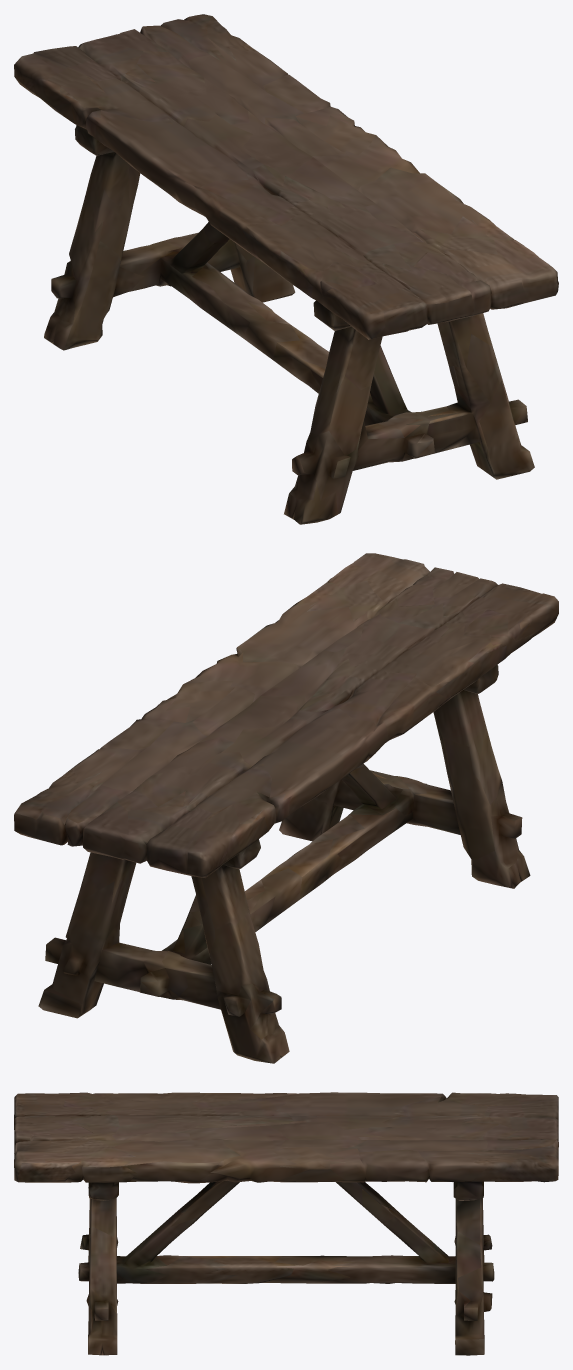
Rendered from trestle-table.glb.
3 renders of one model, top to bottom at view 1: azimuth 30°, elevation 25°; view 2: azimuth 150°, elevation 25°; view 3: azimuth 270°, elevation 25°, orthographic. The views are drawn at different scales.
Parts seen in each view (by area): view 1: tripo_node_76d6209b-04c1-422c-9e89-5d86fcd3d28a; view 2: tripo_node_76d6209b-04c1-422c-9e89-5d86fcd3d28a; view 3: tripo_node_76d6209b-04c1-422c-9e89-5d86fcd3d28a.
Boxes of the visible parts, x1,y1,x2,y2 form: tripo_node_76d6209b-04c1-422c-9e89-5d86fcd3d28a: (14,14,558,524); tripo_node_76d6209b-04c1-422c-9e89-5d86fcd3d28a: (14,553,558,1063); tripo_node_76d6209b-04c1-422c-9e89-5d86fcd3d28a: (14,1092,558,1355).
Size of the model in its own units: 0.3798 by 0.3736 by 1.
1 material, 1 textured.
